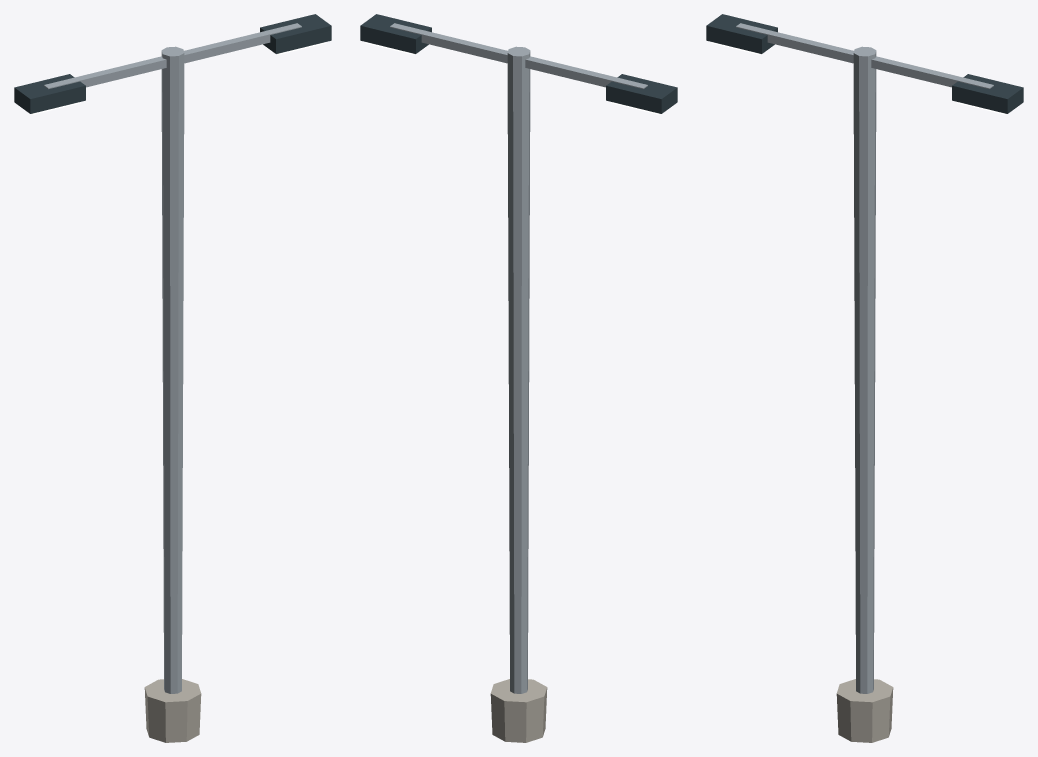
File: exits_lamp.glb
3 renders of one model, left to right at view 1: azimuth 30°, elevation 25°; view 2: azimuth 150°, elevation 25°; view 3: azimuth 330°, elevation 25°, orthographic.
Parts seen in each view (by area): view 1: ExitsLamp_body; view 2: ExitsLamp_body; view 3: ExitsLamp_body.
Boxes of the visible parts, x1,y1,x2,y2 form: ExitsLamp_body: [14, 14, 331, 742]; ExitsLamp_body: [360, 14, 677, 742]; ExitsLamp_body: [706, 14, 1023, 742].
Size of the model in its own units: 3.8 by 8.2 by 0.64.
